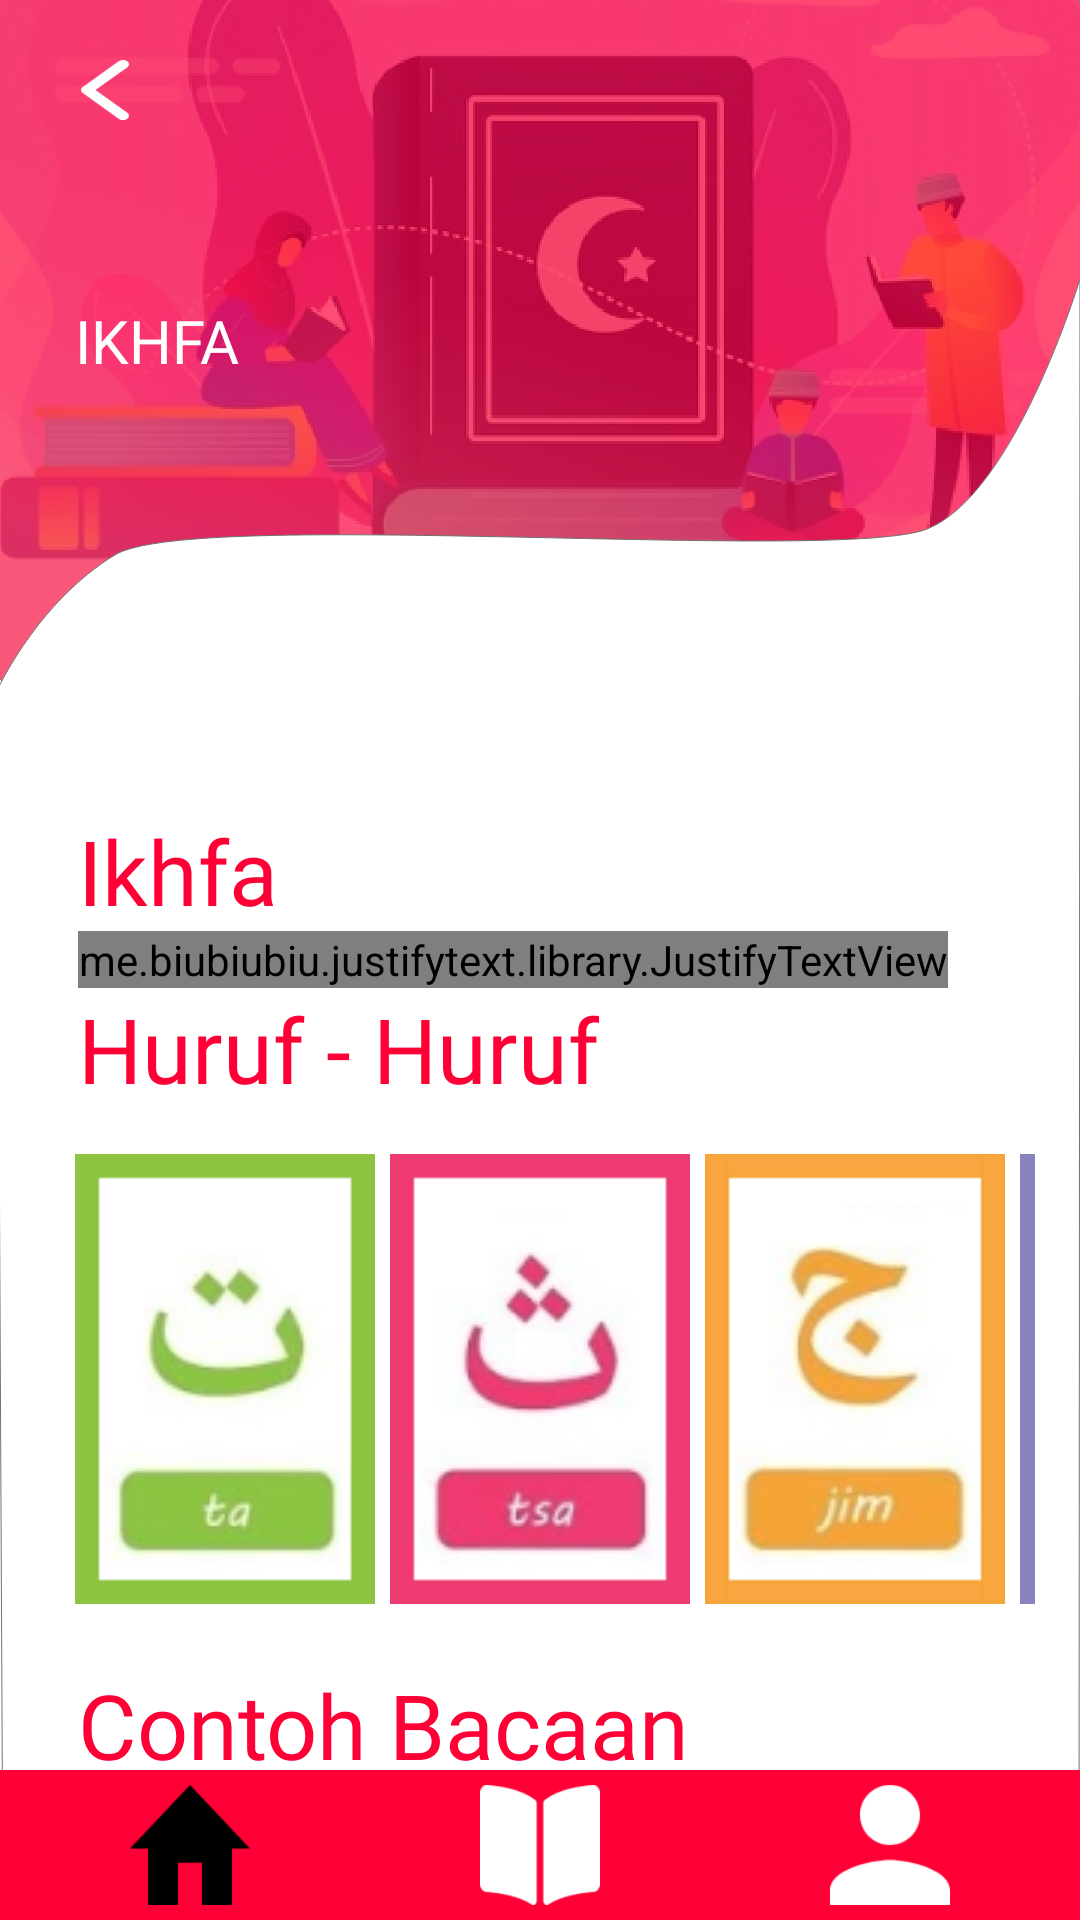

Where icons sit on this 1080px×1920px app screen, as (x1=x1, y1=y1, x2=x2, y2=y2):
akun: (x1=830, y1=1785, x2=950, y2=1905)
back: (x1=81, y1=60, x2=129, y2=120)
home: (x1=130, y1=1785, x2=250, y2=1905)
